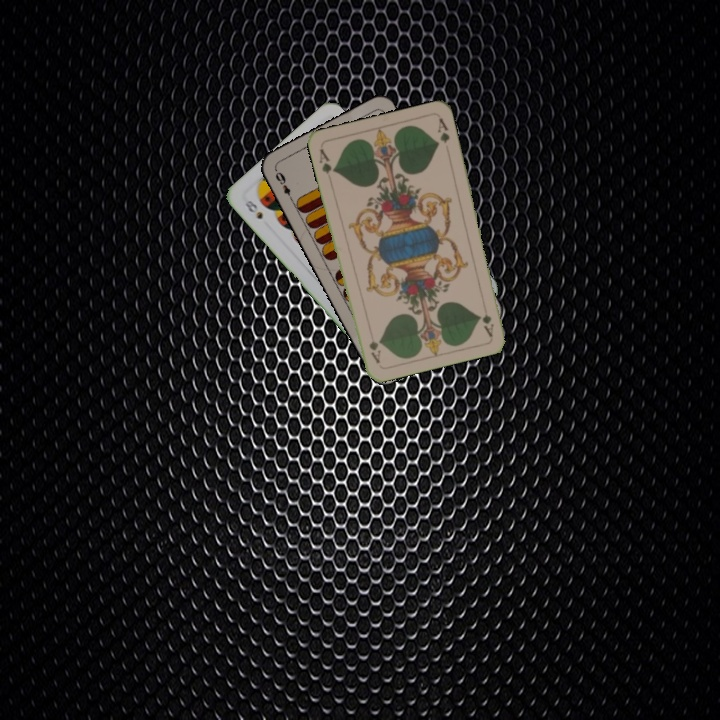E9: (271, 166, 296, 204)
GA: (478, 298, 496, 339), (315, 145, 338, 176)
S8: (241, 193, 265, 222)
